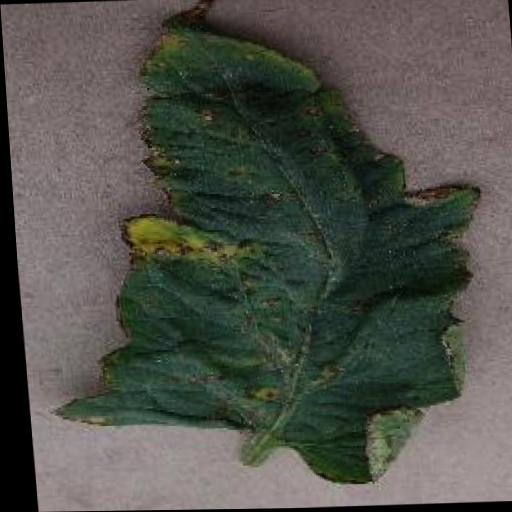Bacterial Spot: (13, 0, 507, 499)
